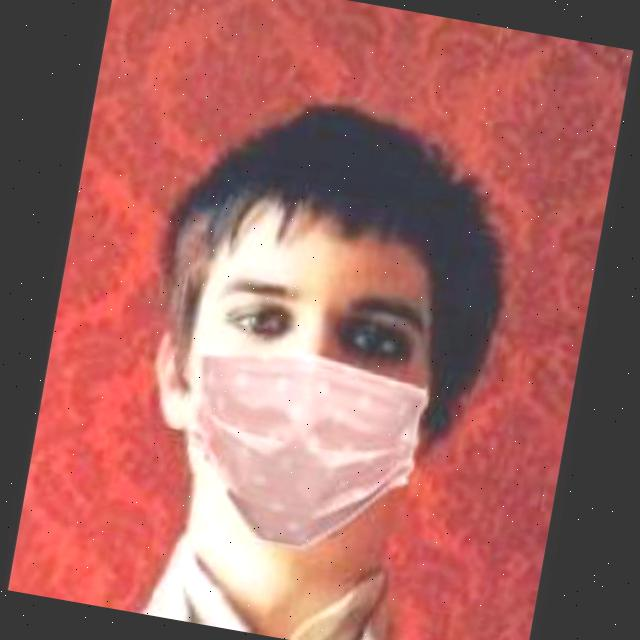suspicion: (134, 86, 512, 564)
